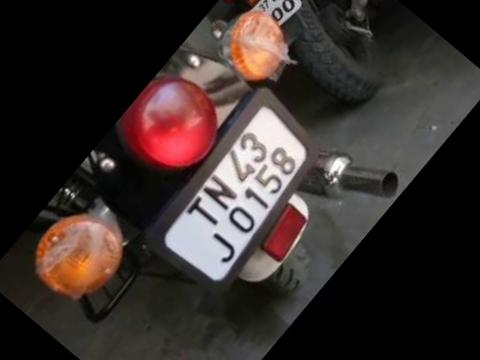plate: (127, 83, 342, 309)
